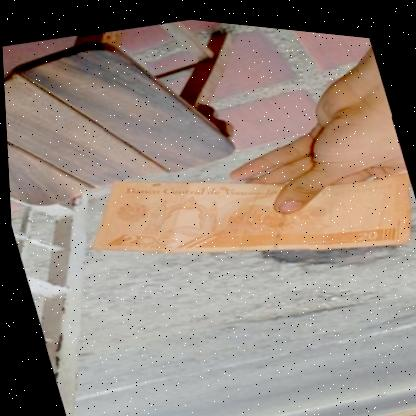twenty-front-vef: (68, 101, 416, 313)
